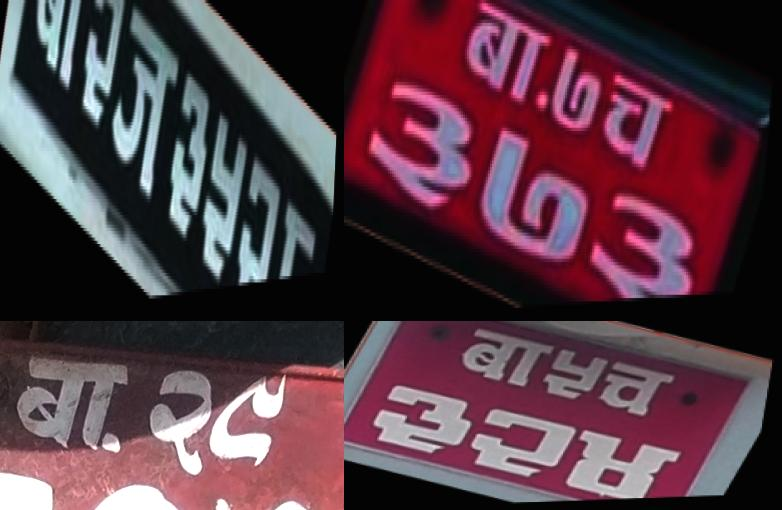0: (49, 463, 254, 510)
2: (117, 356, 251, 491), (458, 396, 587, 487), (232, 143, 288, 294), (75, 0, 127, 142)
3: (360, 63, 488, 220), (581, 169, 719, 307), (351, 367, 495, 467), (161, 60, 218, 265)
4: (550, 422, 702, 504)
5: (195, 106, 253, 297), (531, 343, 617, 411)
7: (467, 114, 612, 286), (543, 38, 615, 142)
8: (268, 197, 324, 289)
9: (203, 361, 317, 485)
ba: (0, 329, 149, 475), (454, 0, 553, 111), (439, 321, 562, 397), (25, 0, 93, 103)
cha: (592, 63, 682, 189), (585, 357, 686, 428)
ja: (104, 0, 183, 225)
pa: (306, 368, 344, 499)
